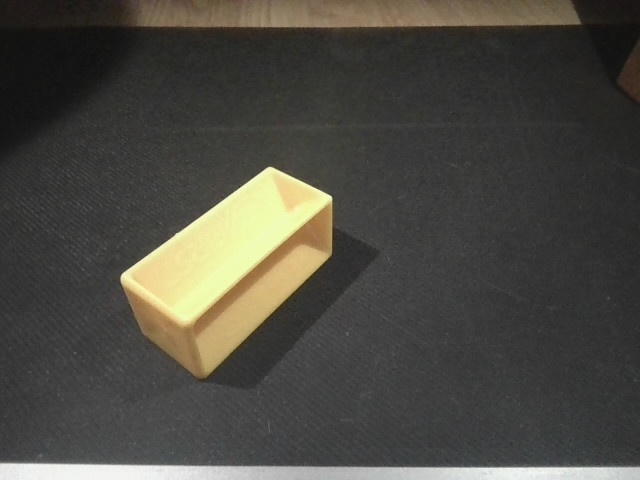YellowSample: (114, 164, 343, 382)
